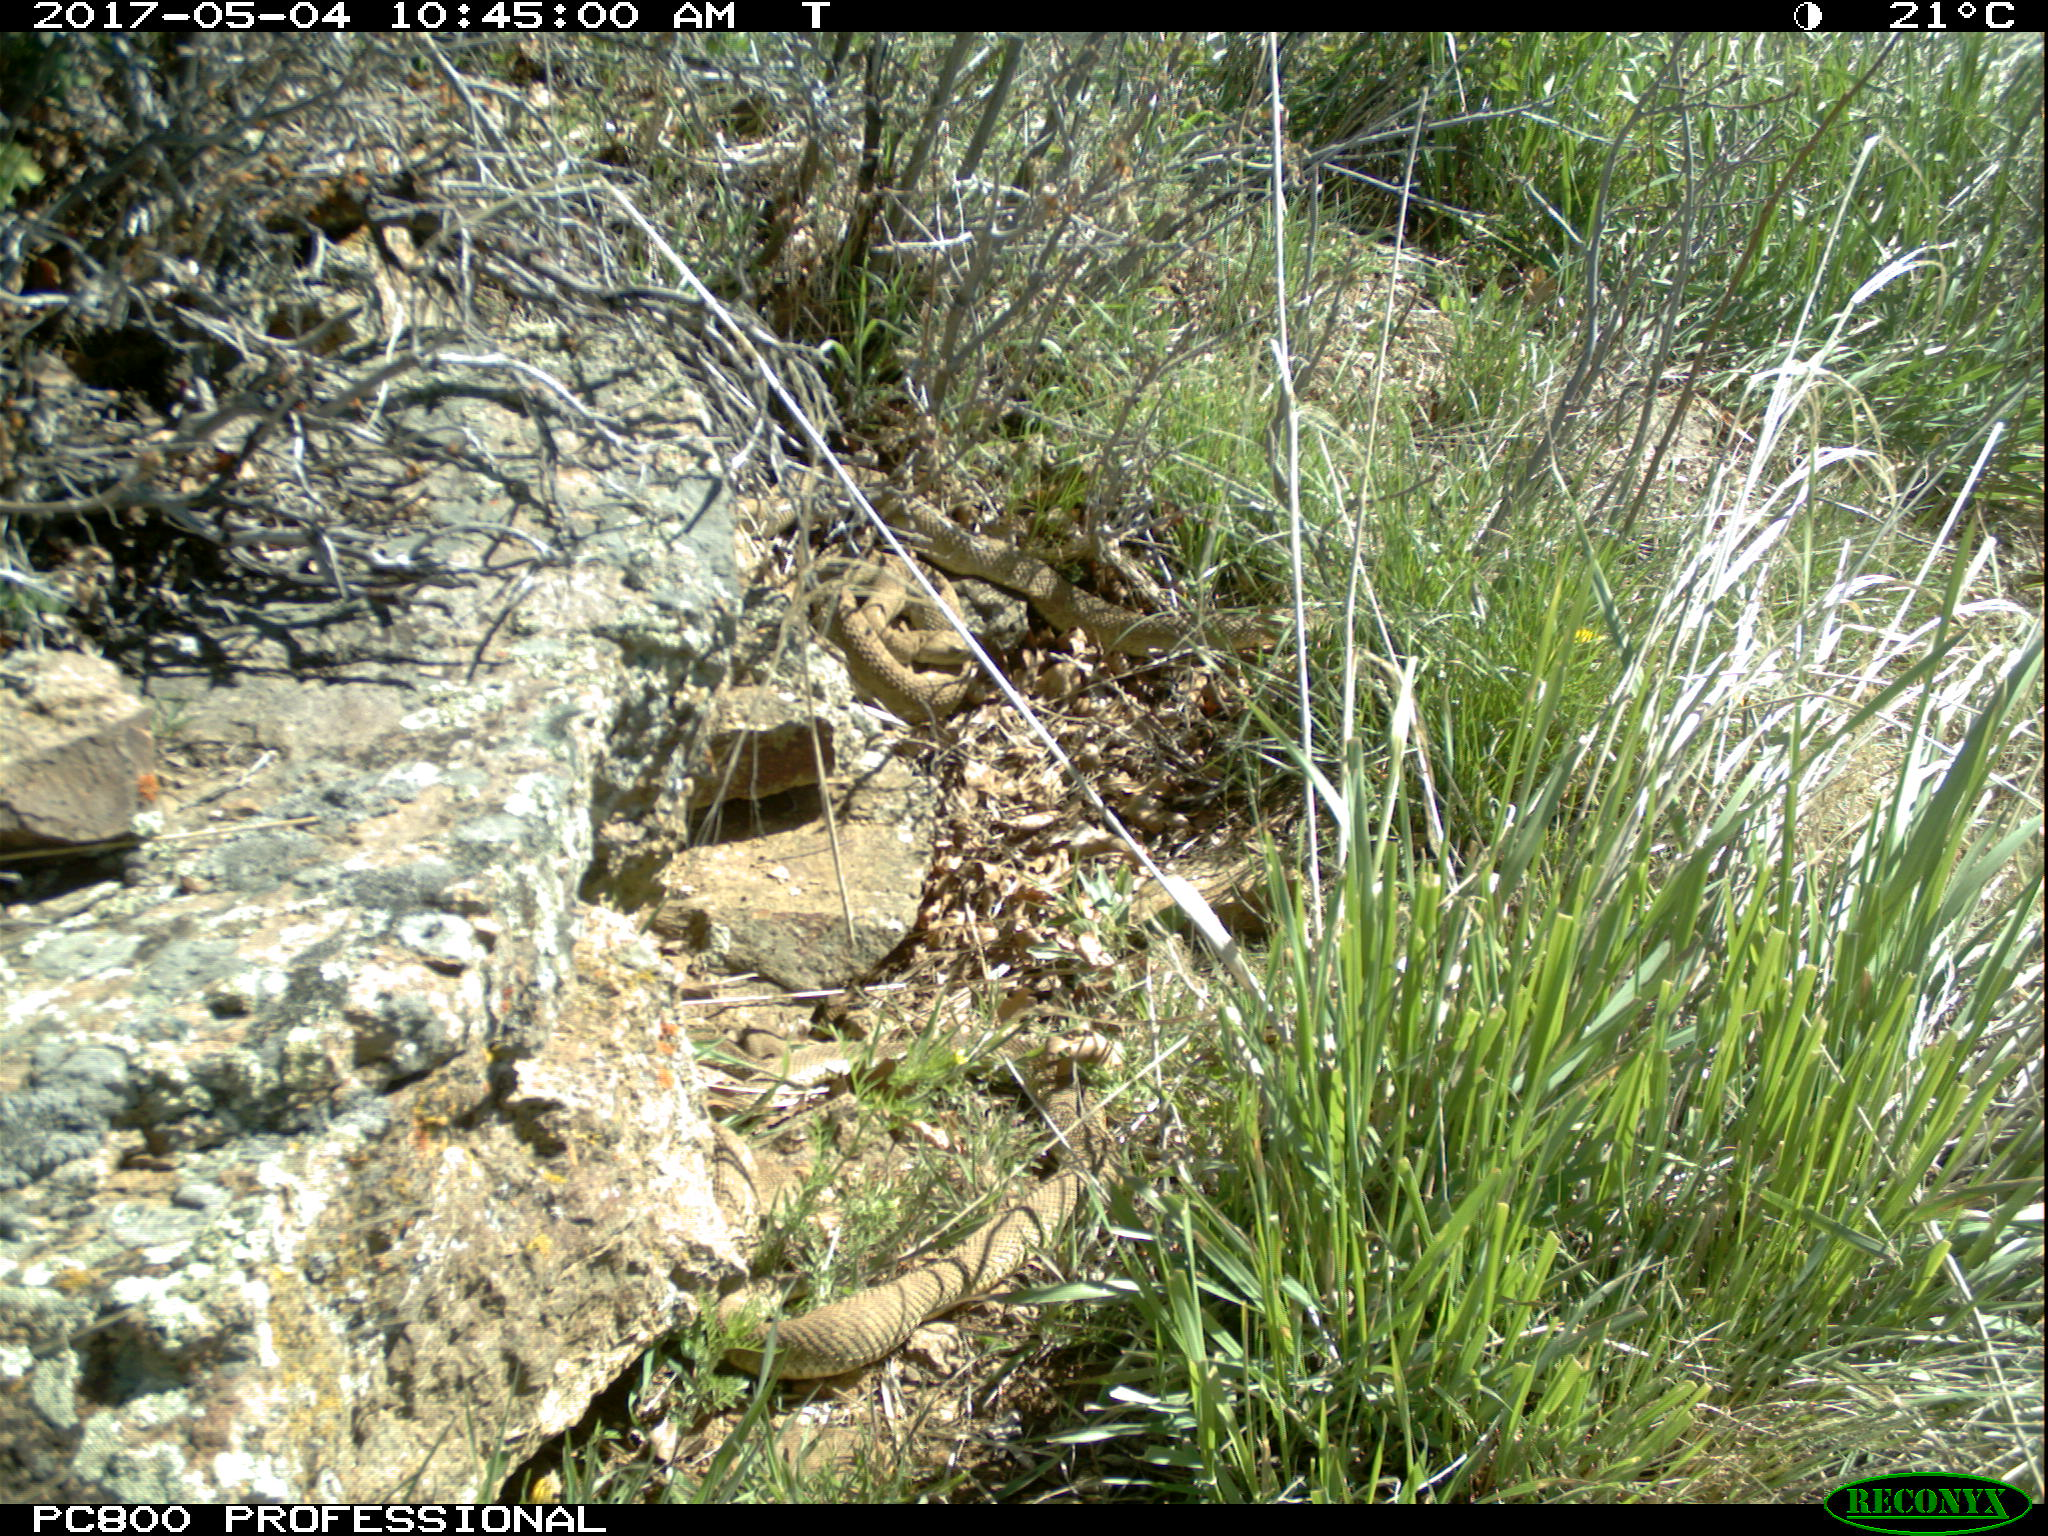snake: (819, 492, 1329, 721), (721, 1170, 1092, 1379), (747, 1031, 1109, 1099)
